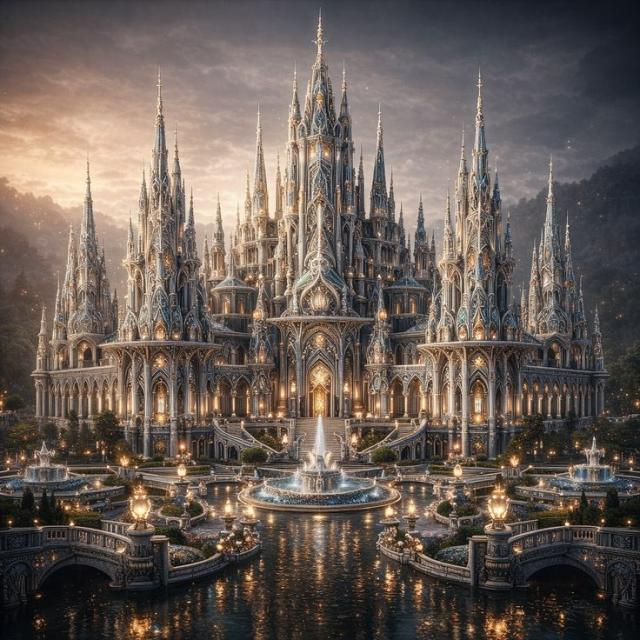castle: (31, 1, 615, 480)
